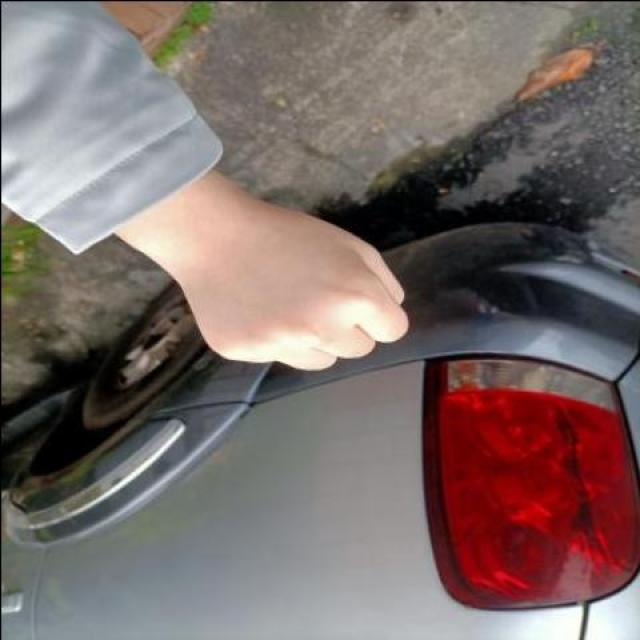Closed Hand: (152, 174, 424, 385)
